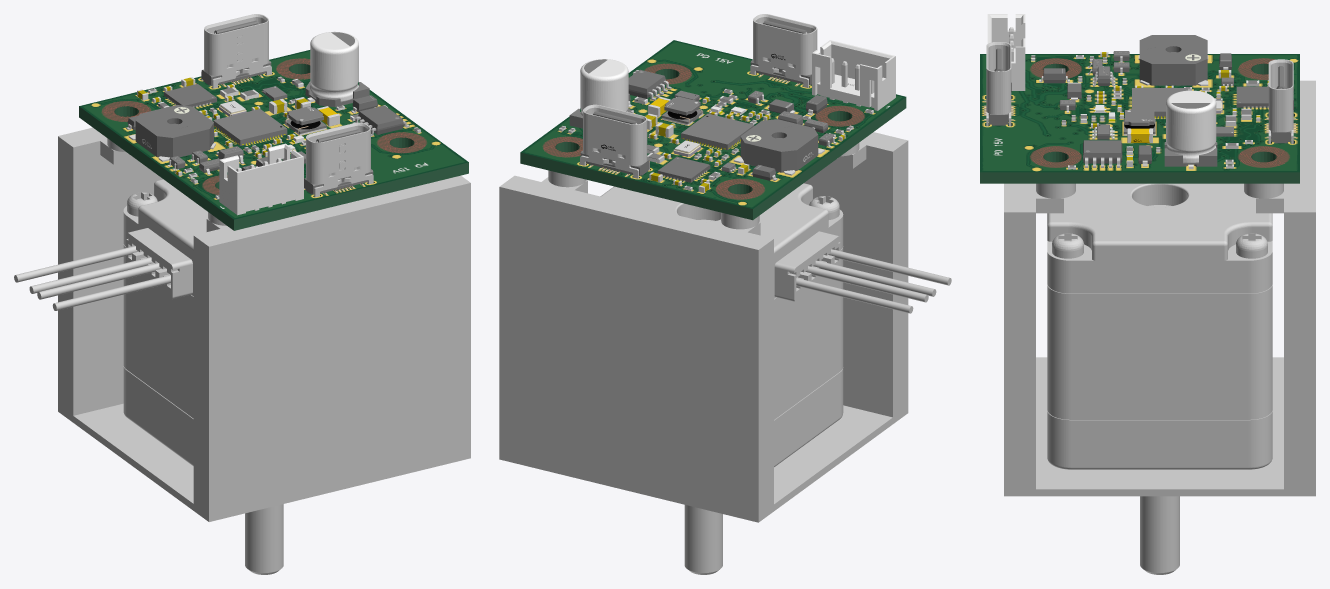
Rendered from development-assembly.glb.
3 renders of one model, left to right at view 1: azimuth 30°, elevation 25°; view 2: azimuth 150°, elevation 25°; view 3: azimuth 270°, elevation 25°, orthographic. The views are drawn at different scales.
Parts seen in each view (by area): view 1: FRONT_CARRIER_PROPOSAL, OEM_11HS12_0674S, Box0, J_MOTOR, J_DATA, J_PD, C_BULK, BZ1, U_MCU, U_PD, L_BUCK, U_DRV; view 2: FRONT_CARRIER_PROPOSAL, OEM_11HS12_0674S, Box0, J_MOTOR, J_DATA, J_PD, BZ1, C_BULK, U_MCU, U_PD, L_BUCK, U_DRV; view 3: OEM_11HS12_0674S, FRONT_CARRIER_PROPOSAL, Box0, C_BULK, BZ1, J_DATA, J_PD, J_MOTOR, U_PD, U_MCU, U_DRV, L_BUCK.
Boxes of the visible parts, left/top/right/bottom form: FRONT_CARRIER_PROPOSAL: left=58, top=127, right=470, bottom=521; OEM_11HS12_0674S: left=14, top=179, right=283, bottom=574; Box0: left=79, top=50, right=468, bottom=230; J_MOTOR: left=219, top=143, right=303, bottom=215; J_DATA: left=201, top=14, right=271, bottom=88; J_PD: left=304, top=122, right=373, bottom=197; C_BULK: left=305, top=31, right=369, bottom=107; BZ1: left=128, top=105, right=215, bottom=161; U_MCU: left=213, top=109, right=287, bottom=145; U_PD: left=352, top=105, right=409, bottom=136; L_BUCK: left=284, top=106, right=326, bottom=135; U_DRV: left=164, top=84, right=216, bottom=107; FRONT_CARRIER_PROPOSAL: left=499, top=132, right=908, bottom=522; OEM_11HS12_0674S: left=600, top=183, right=951, bottom=574; Box0: left=520, top=40, right=906, bottom=220; J_MOTOR: left=812, top=40, right=895, bottom=110; J_DATA: left=580, top=104, right=649, bottom=178; J_PD: left=750, top=14, right=817, bottom=87; BZ1: left=733, top=119, right=824, bottom=175; C_BULK: left=569, top=59, right=631, bottom=128; U_MCU: left=681, top=113, right=754, bottom=150; U_PD: left=628, top=69, right=671, bottom=100; L_BUCK: left=662, top=96, right=703, bottom=125; U_DRV: left=657, top=156, right=710, bottom=182; OEM_11HS12_0674S: left=1047, top=183, right=1272, bottom=574; FRONT_CARRIER_PROPOSAL: left=1004, top=80, right=1315, bottom=496; Box0: left=980, top=54, right=1299, bottom=183; C_BULK: left=1164, top=90, right=1217, bottom=169; BZ1: left=1138, top=35, right=1208, bottom=85; J_DATA: left=1266, top=59, right=1295, bottom=143; J_PD: left=984, top=42, right=1013, bottom=126; J_MOTOR: left=987, top=14, right=1025, bottom=90; U_PD: left=1083, top=140, right=1122, bottom=167; U_MCU: left=1132, top=88, right=1187, bottom=117; U_DRV: left=1236, top=86, right=1268, bottom=107; L_BUCK: left=1123, top=109, right=1155, bottom=135.
Bounding box in the file's own units: 53.6 × 70.55 × 42.
Materials: 30 (2 with a texture image).
